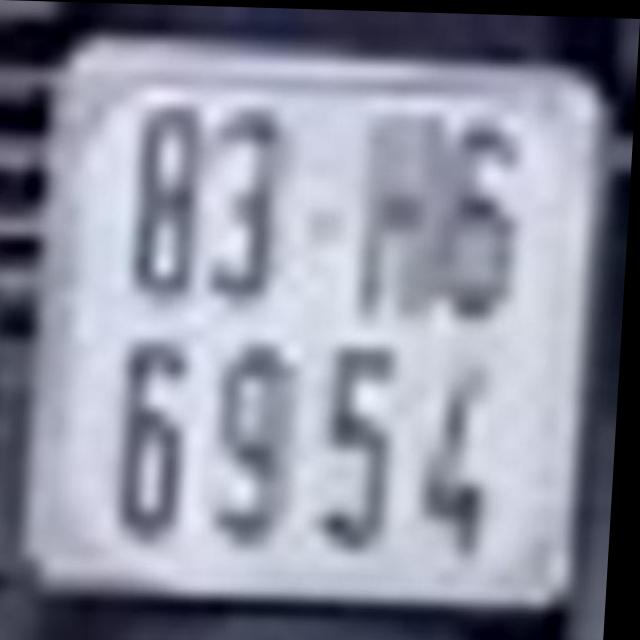3: (215, 96, 282, 297)
4: (434, 379, 502, 551)
5: (331, 327, 400, 556)
6: (119, 324, 200, 535), (452, 107, 525, 321)
8: (136, 108, 201, 286)
9: (219, 338, 306, 538)
B: (364, 93, 448, 317)
